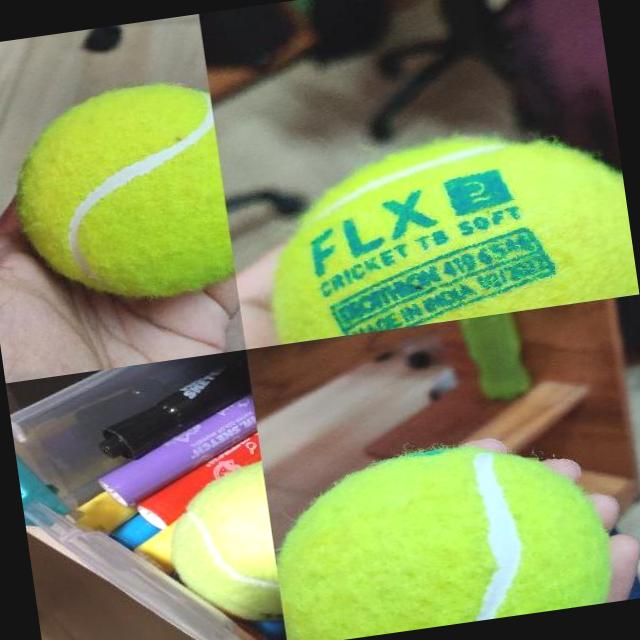Tennis Ball: (253, 115, 638, 344), (264, 426, 619, 640), (2, 77, 236, 316), (162, 460, 284, 634)
